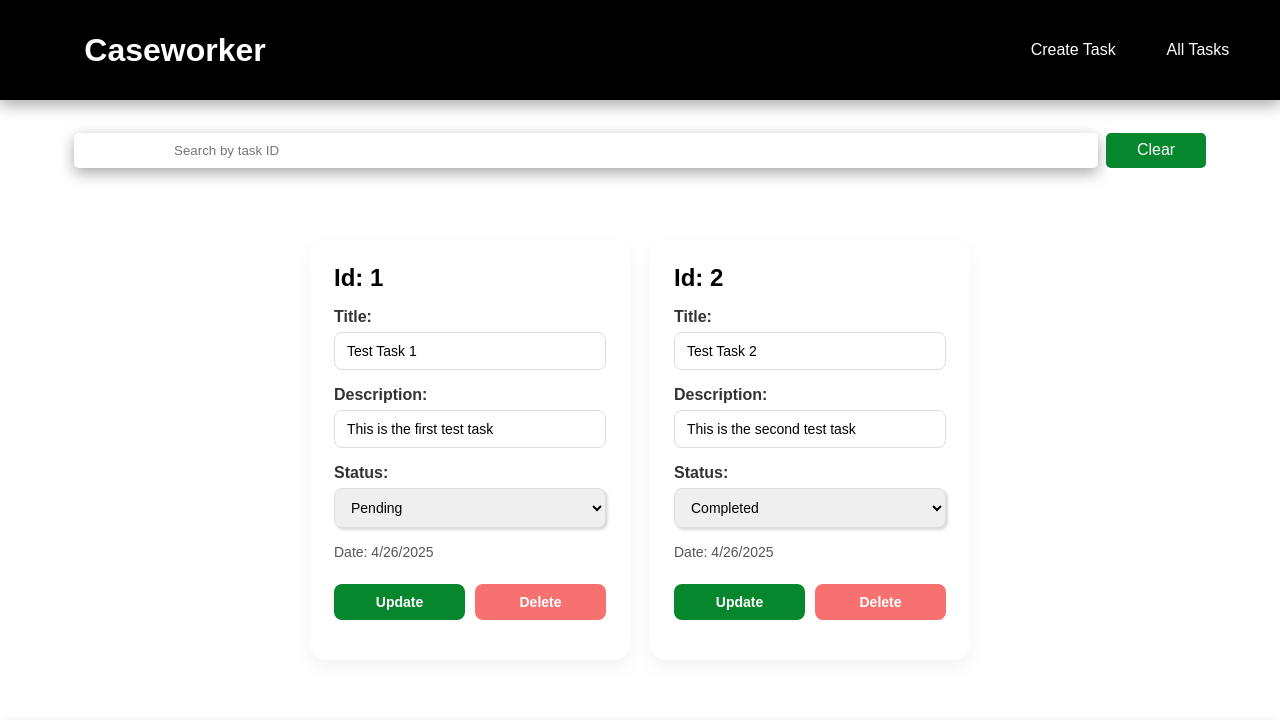
Scenario: Alltask Component › should handle empty search result gracefully
Expected: the 1st field showing "Test Task 1" is shown, [334, 332, 606, 370]
Type "999" into the number field with placeholder "Search by task ID". click: {"x": 586, "y": 150}
box: [74, 132, 1098, 168]
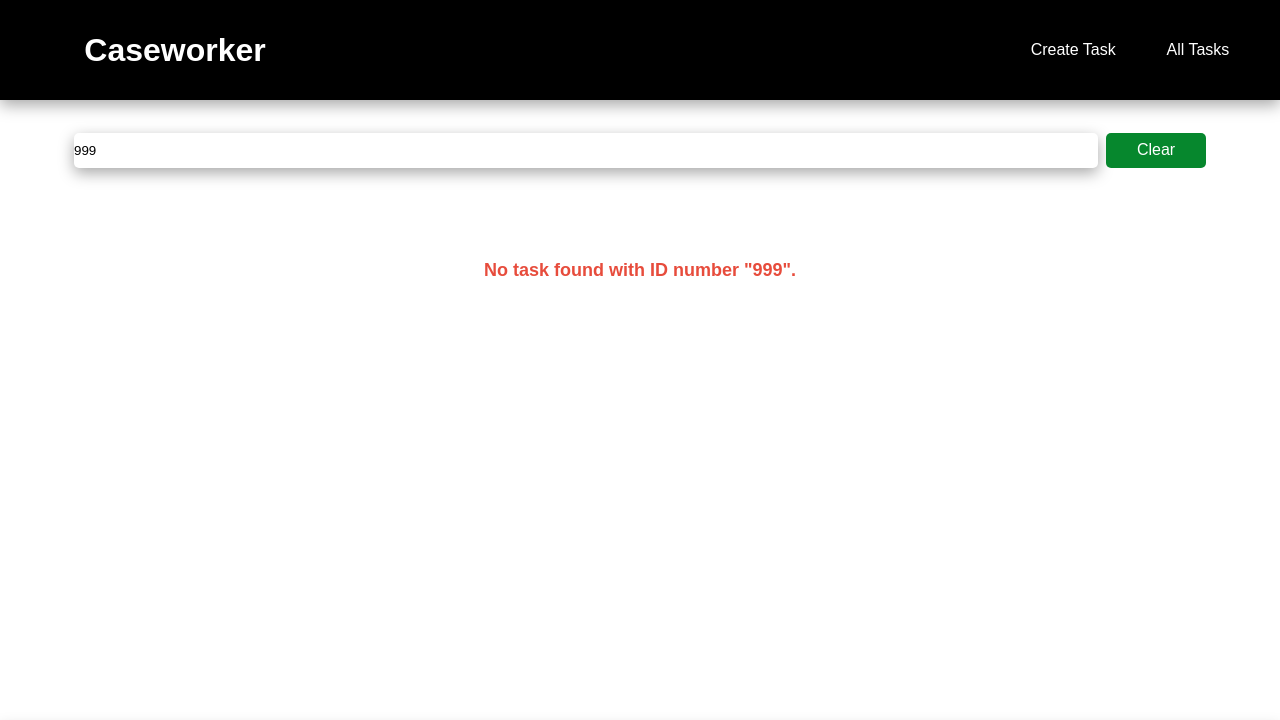
Expected: the text "No task found with ID number \"999\"." is shown, [484, 260, 796, 280]
